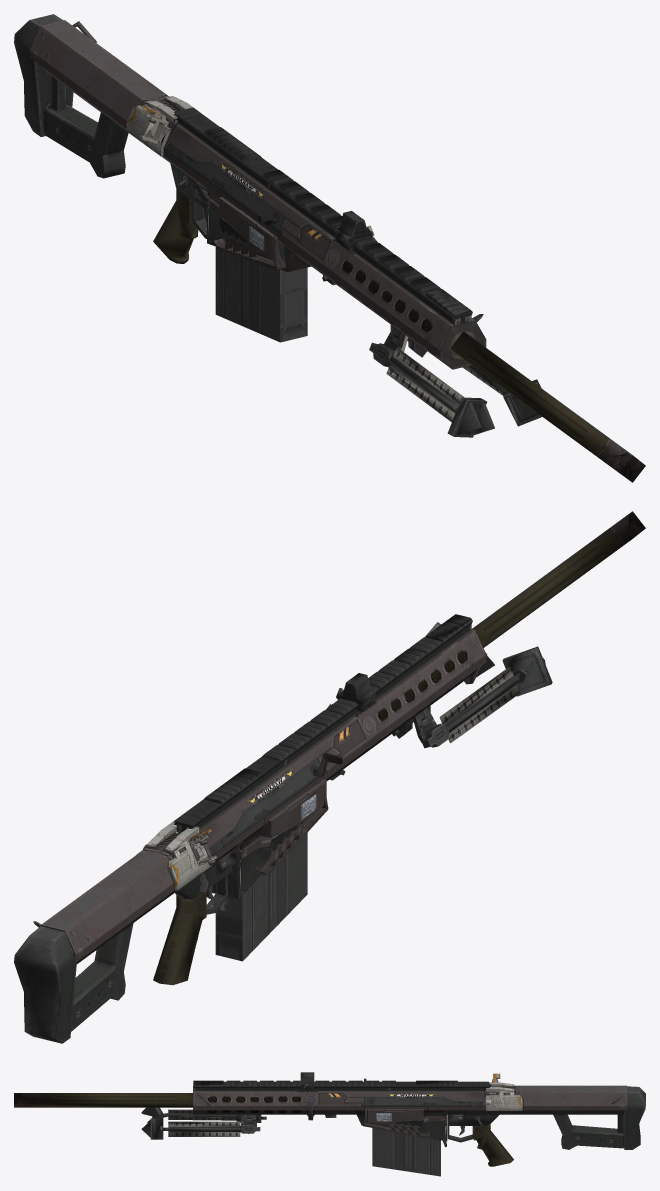
Rendered from Sniper_Rifle_jjq_01_Main_(000487).glb.
3 views of the same model, one above another, from view 1: azimuth 30°, elevation 25°; view 2: azimuth 150°, elevation 25°; view 3: azimuth 270°, elevation 25° (orthographic). The views are drawn at different scales.
Visible parts, largest first — view 1: jjq_01; view 2: jjq_01; view 3: jjq_01.
Part boxes in pixels (x1=…): jjq_01: x1=14, y1=14, x2=645, y2=482; jjq_01: x1=14, y1=511, x2=645, y2=1043; jjq_01: x1=14, y1=1072, x2=645, y2=1176.
Bounding box in the file's own units: 0.1778 × 0.306 × 1.77.
1 material, 1 textured.
